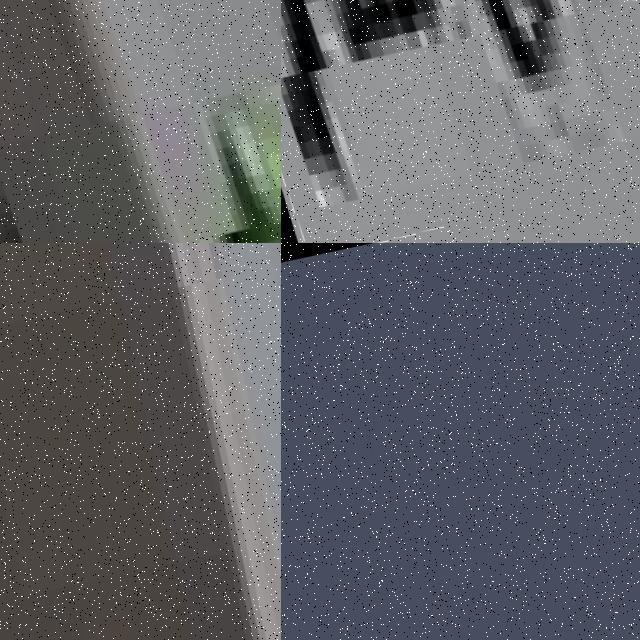drone: (281, 0, 640, 243), (0, 0, 281, 243)
